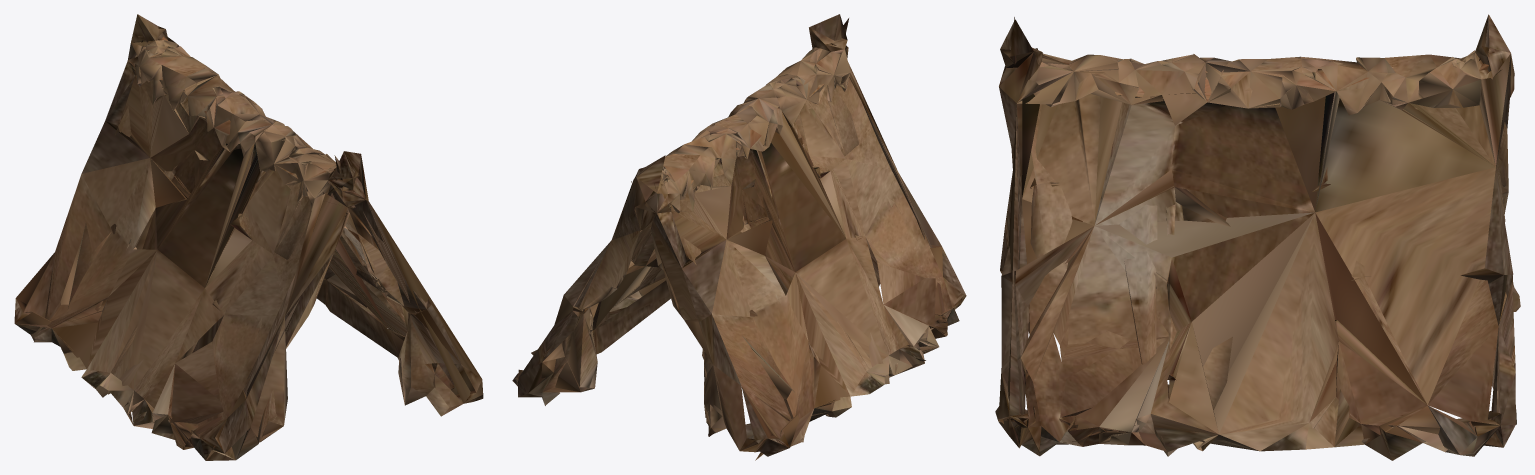
3 views of the same model, side by side, from view 1: azimuth 30°, elevation 25°; view 2: azimuth 150°, elevation 25°; view 3: azimuth 270°, elevation 25° (orthographic). The views are drawn at different scales.
Parts seen in each view (by area): view 1: Dense.001; view 2: Dense.001; view 3: Dense.001.
Boxes of the visible parts, x1=… form: Dense.001: x1=14, y1=14, x2=483, y2=460; Dense.001: x1=512, y1=14, x2=966, y2=460; Dense.001: x1=995, y1=14, x2=1520, y2=460.
Bounding box in the file's own units: 3.53 × 3.06 × 4.13.
1 material, 1 textured.
